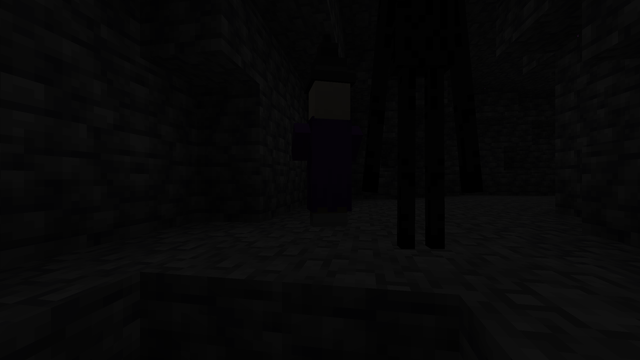endermens: (384, 0, 467, 258)
sorcieres: (301, 72, 350, 229)
